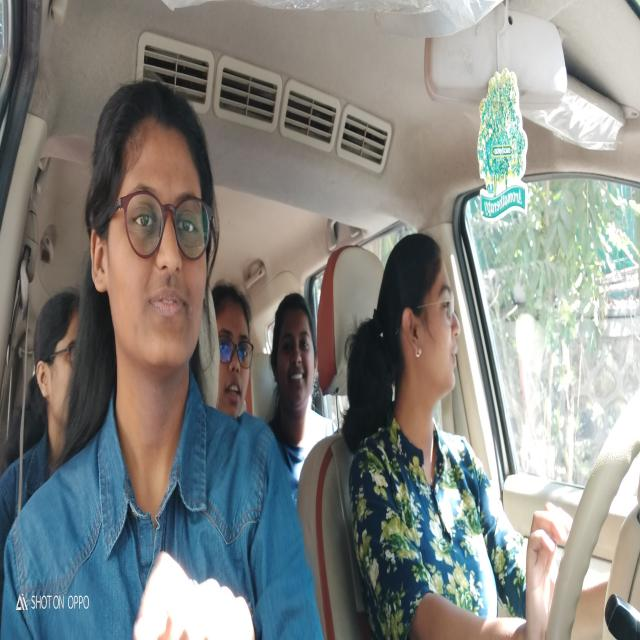LeftRight: (371, 234, 469, 403)
person: (85, 68, 222, 407), (264, 280, 326, 432), (30, 281, 83, 441), (213, 269, 254, 436)
